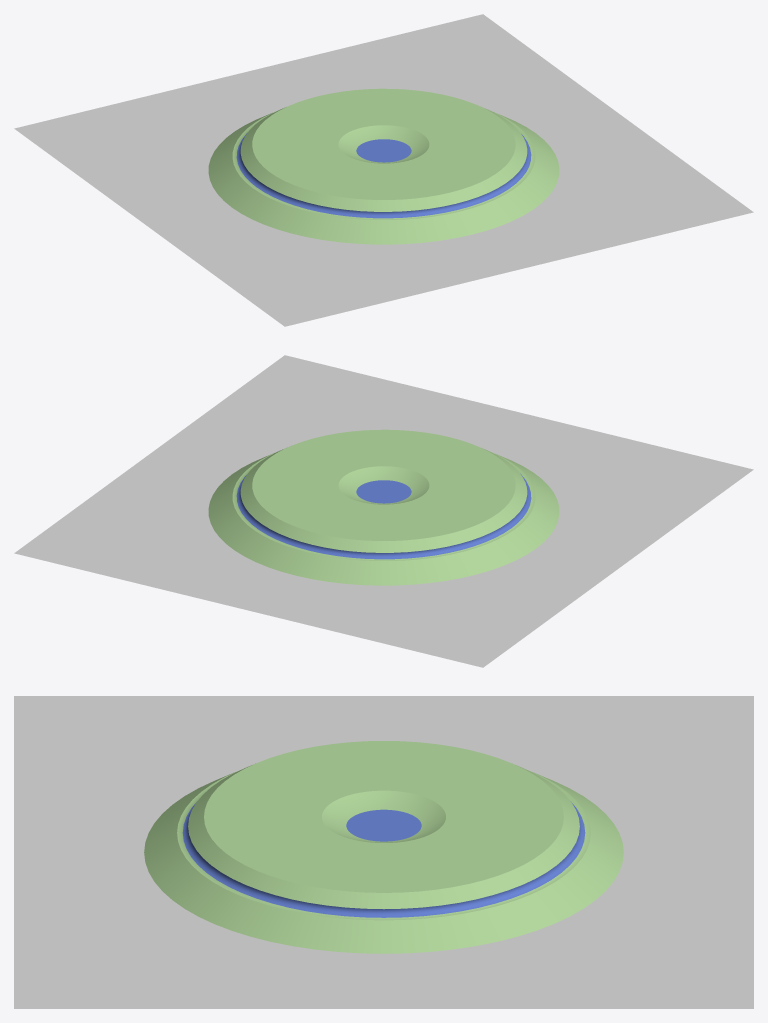
The model's file is SpawnPlate.fbx.
The picture shows the model from 3 angles, top to bottom: view 1: azimuth 30°, elevation 25°; view 2: azimuth 150°, elevation 25°; view 3: azimuth 270°, elevation 25°; orthographic projection. The views are drawn at different scales.
Parts seen in each view (by area): view 1: SpawnPlate; view 2: SpawnPlate; view 3: SpawnPlate.
Part boxes in pixels (x1,y1,x2,y2): SpawnPlate: (14, 14, 753, 326); SpawnPlate: (14, 355, 753, 667); SpawnPlate: (14, 696, 753, 1008).
Size of the model in its own units: 700 by 37.14 by 700.
